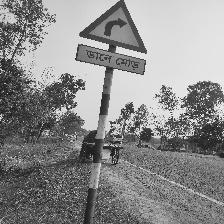Right-turn: (76, 0, 148, 77)
